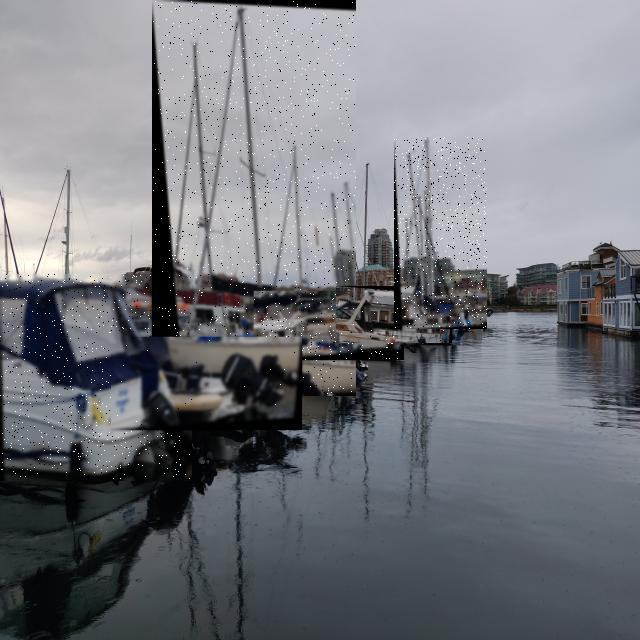boat: (152, 0, 356, 396), (0, 274, 192, 481), (394, 137, 487, 329), (111, 337, 302, 430), (255, 291, 404, 360), (336, 286, 452, 343)
